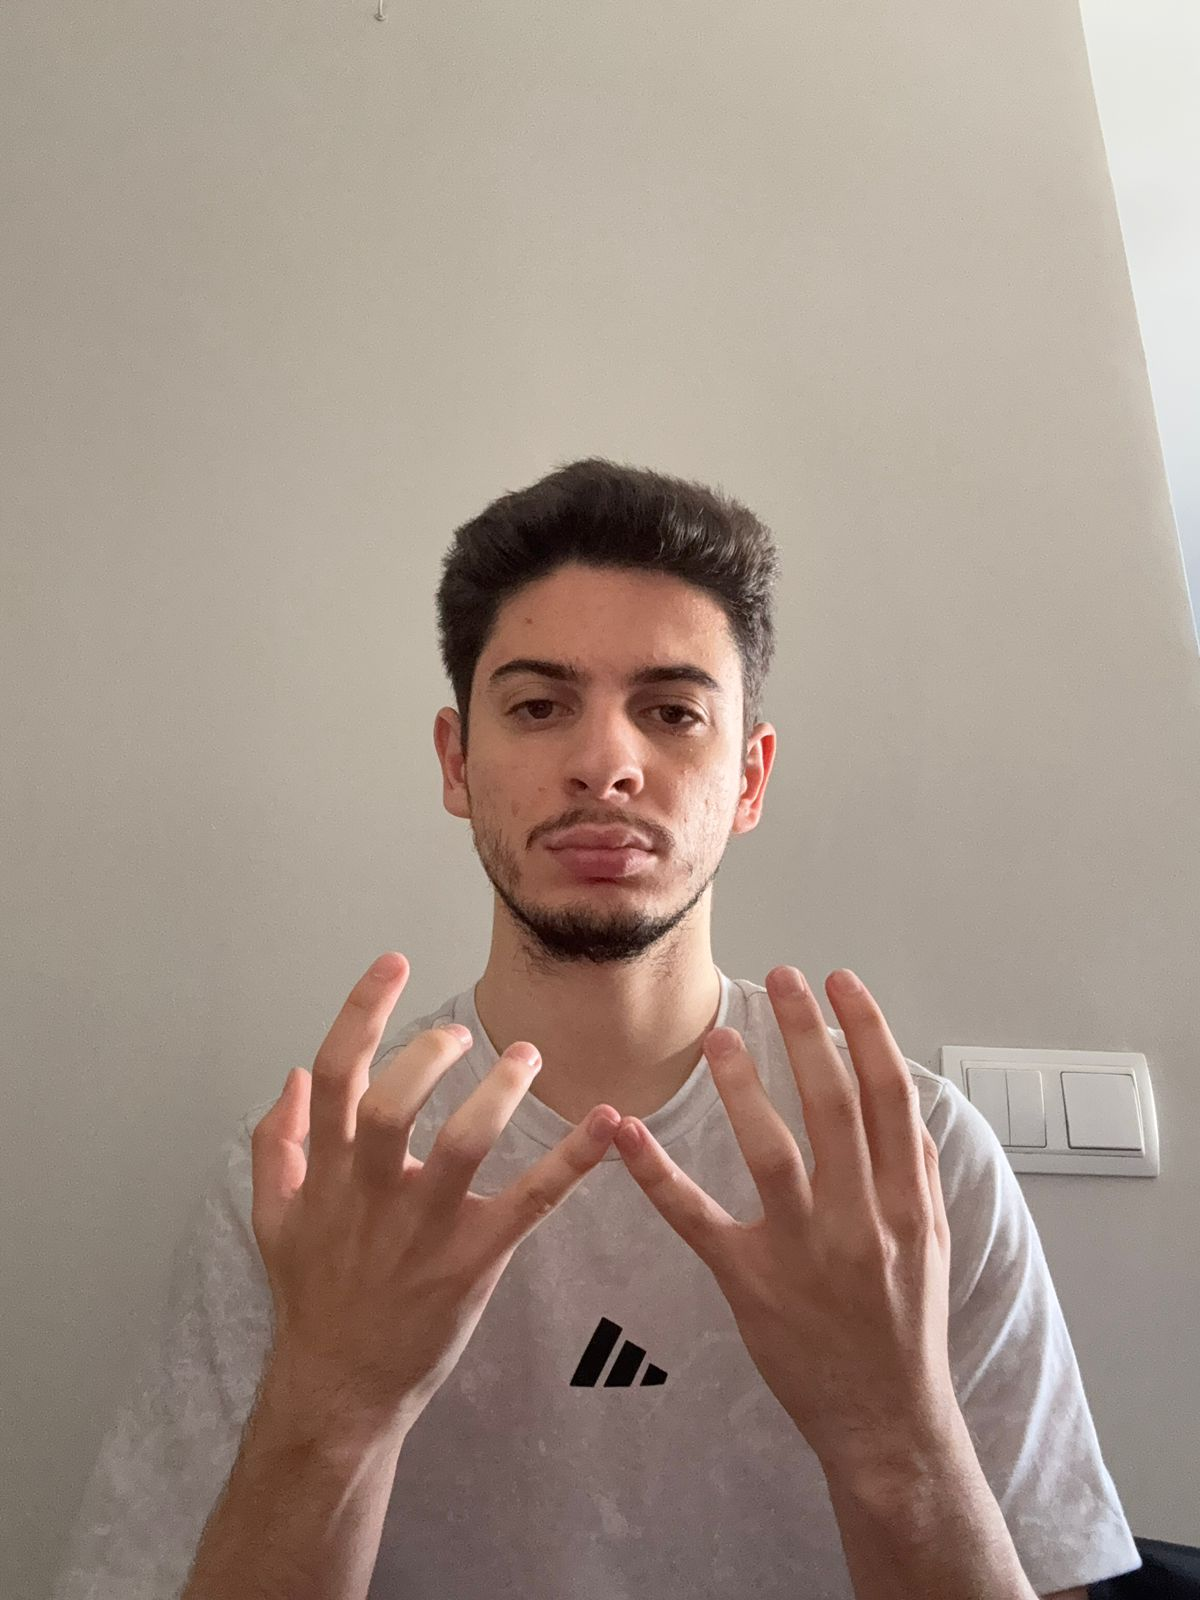group: (58, 454, 1146, 1595)
